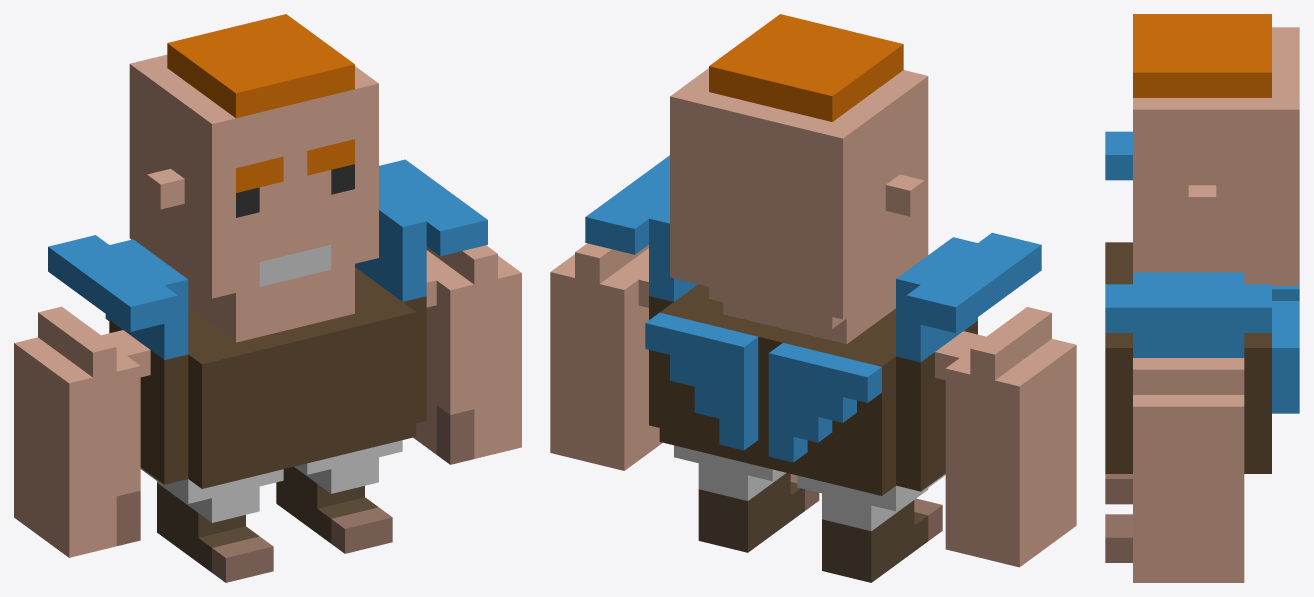
The model's file is Character_1.fbx.
The picture shows the model from 3 angles, left to right: view 1: azimuth 30°, elevation 25°; view 2: azimuth 150°, elevation 25°; view 3: azimuth 270°, elevation 25°; orthographic projection. The views are drawn at different scales.
Parts seen in each view (by area): view 1: Body, Hand_R, Hand_L, Leg_R, Leg_L; view 2: Body, Hand_R, Hand_L, Leg_R, Leg_L; view 3: Body, Hand_L, Leg_L, Leg_R.
Part boxes in pixels (x1,y1,x2,y2): Body: (48, 14, 487, 488); Hand_R: (14, 306, 150, 557); Hand_L: (413, 245, 521, 464); Leg_R: (140, 468, 283, 582); Leg_L: (276, 440, 402, 553); Body: (585, 14, 1041, 495); Hand_R: (935, 307, 1076, 567); Hand_L: (550, 243, 662, 470); Leg_R: (797, 474, 945, 582); Leg_L: (674, 445, 819, 552); Body: (1105, 14, 1299, 473); Hand_L: (1133, 358, 1244, 582); Leg_L: (1105, 514, 1132, 562); Leg_R: (1105, 474, 1132, 504).
Bounding box in the file's own units: 380 × 380 × 140.
